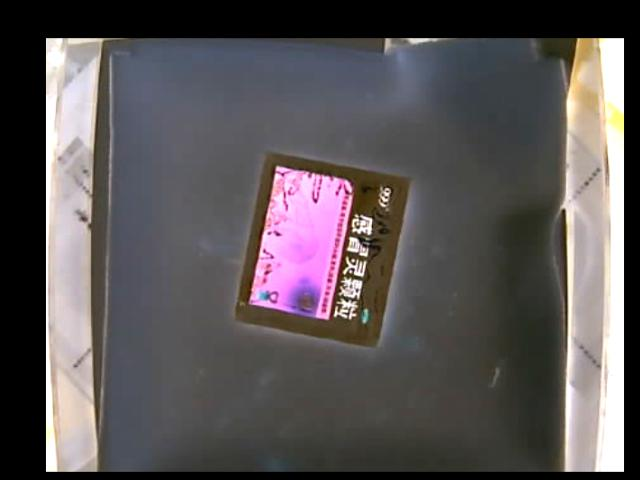Medicine: (239, 152, 413, 347)
